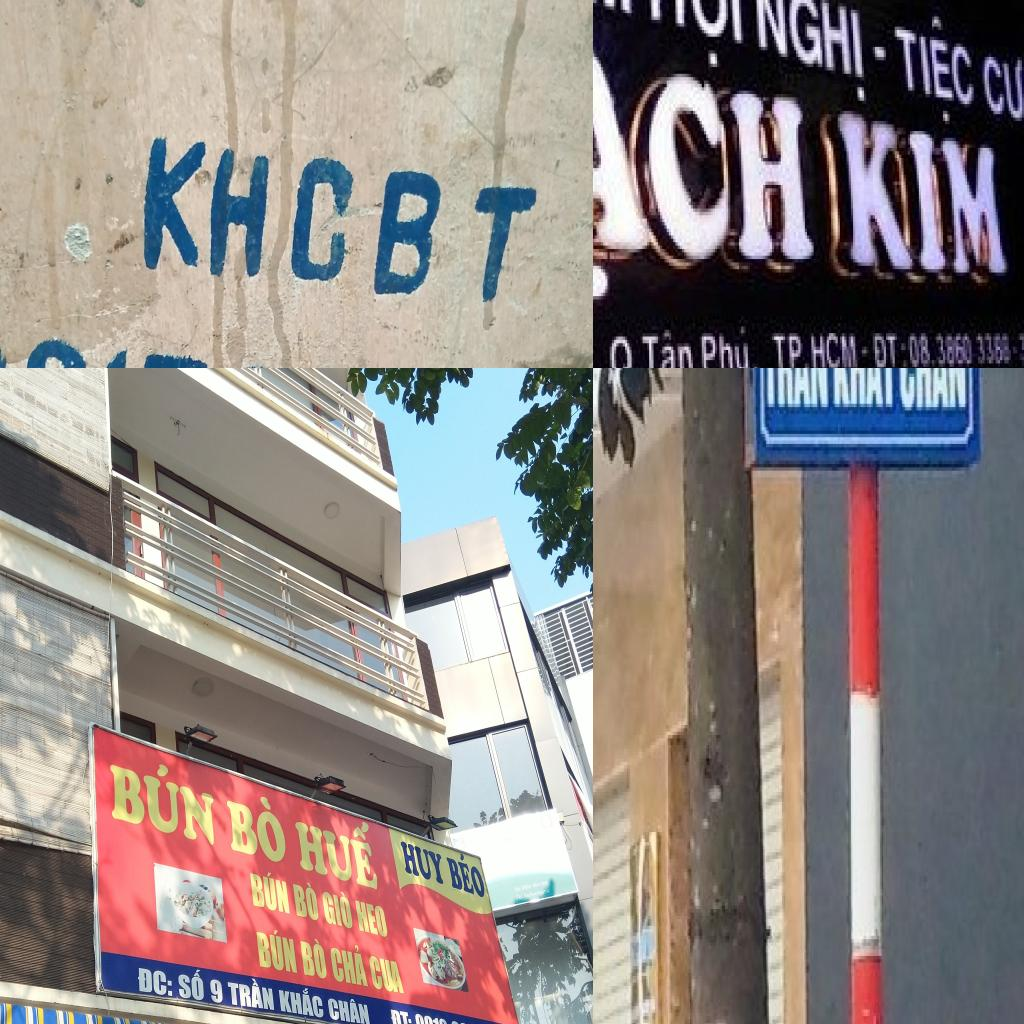text: (593, 0, 826, 313), (816, 101, 1022, 313), (750, 0, 875, 114), (890, 0, 984, 141), (281, 138, 362, 300), (362, 151, 445, 300), (104, 747, 218, 852), (201, 138, 275, 286), (138, 126, 213, 270), (464, 173, 544, 305), (291, 802, 383, 898), (644, 0, 750, 80), (222, 779, 291, 872), (982, 19, 1024, 151), (907, 329, 1017, 368), (755, 368, 830, 417), (697, 316, 767, 368), (830, 368, 899, 420), (638, 323, 701, 368), (398, 837, 446, 891), (246, 864, 293, 918), (252, 926, 300, 976), (445, 848, 488, 902), (807, 329, 866, 368), (328, 939, 372, 991), (226, 972, 276, 1016), (277, 982, 326, 1023), (767, 323, 807, 368), (352, 895, 391, 941), (320, 883, 354, 934), (366, 956, 408, 996), (325, 989, 373, 1024), (135, 963, 176, 1003), (290, 875, 322, 926), (298, 933, 329, 982), (605, 326, 640, 368), (870, 326, 905, 368), (412, 1009, 508, 1024), (177, 966, 206, 1005), (207, 975, 225, 1009), (387, 1003, 415, 1024), (521, 878, 549, 892), (523, 887, 551, 900), (514, 884, 522, 894), (516, 892, 524, 902)
